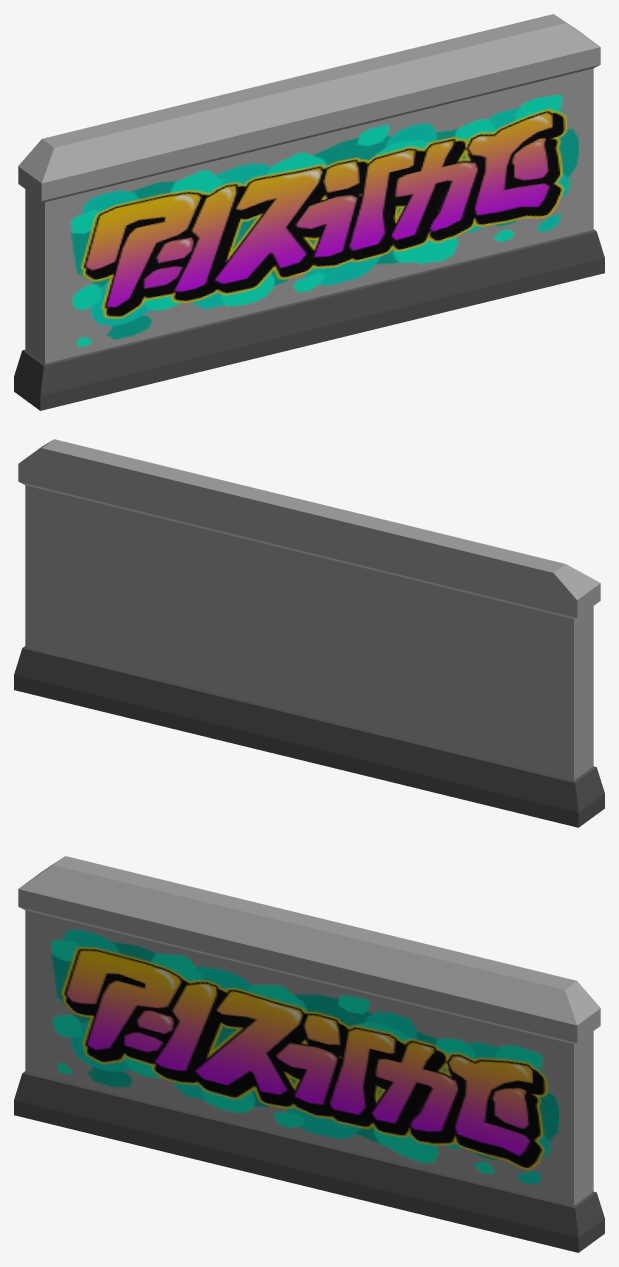
File: city_SM_Env_Graffiti_Ground_05.gltf
3 views of the same model, one above another, from view 1: azimuth 30°, elevation 25°; view 2: azimuth 150°, elevation 25°; view 3: azimuth 330°, elevation 25° (orthographic).
Parts seen in each view (by area): view 1: SM_Env_Graffiti_Ground_05; view 2: SM_Env_Graffiti_Ground_05; view 3: SM_Env_Graffiti_Ground_05.
Part boxes in pixels (x1=…): SM_Env_Graffiti_Ground_05: x1=14, y1=14, x2=604, y2=410; SM_Env_Graffiti_Ground_05: x1=14, y1=439, x2=604, y2=827; SM_Env_Graffiti_Ground_05: x1=14, y1=856, x2=604, y2=1252.
Bounding box in the file's own units: 4.67 × 1.95 × 0.3779.
1 material, 1 textured.
